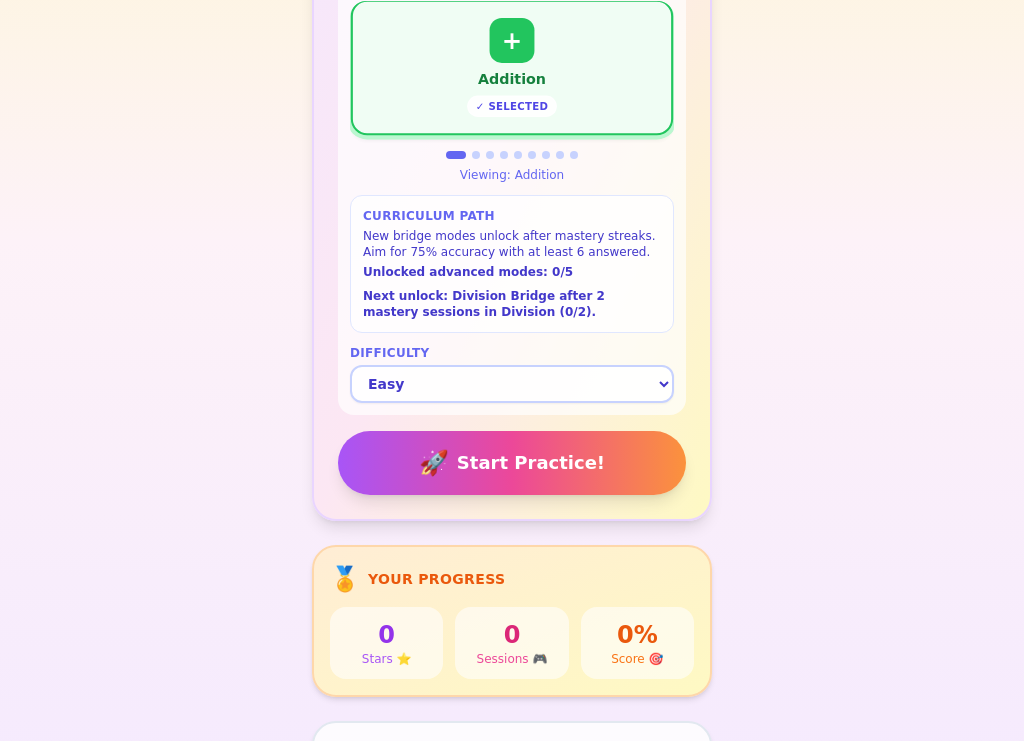
Test: applies selected difficulty when starting practice
(page scrolled)
Select "Hard" in the dropdown named "select difficulty": [512, 384] box [350,365,674,403]
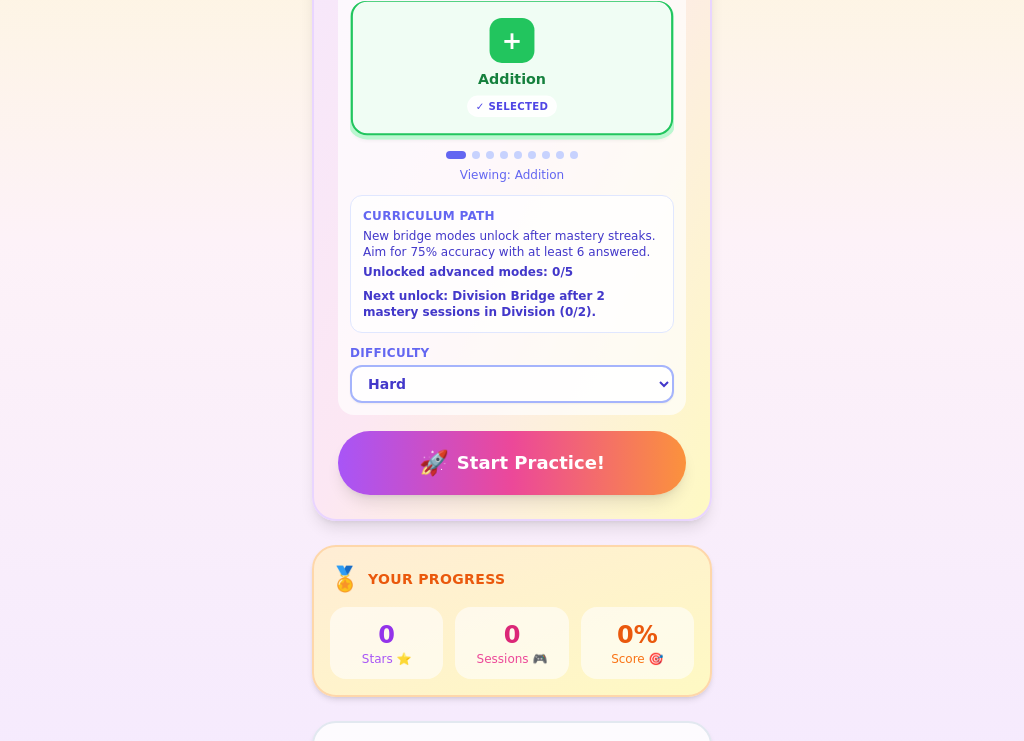
Click the button "🚀 Start Practice!": [512, 463] box [338,431,686,495]
(page scrolled)
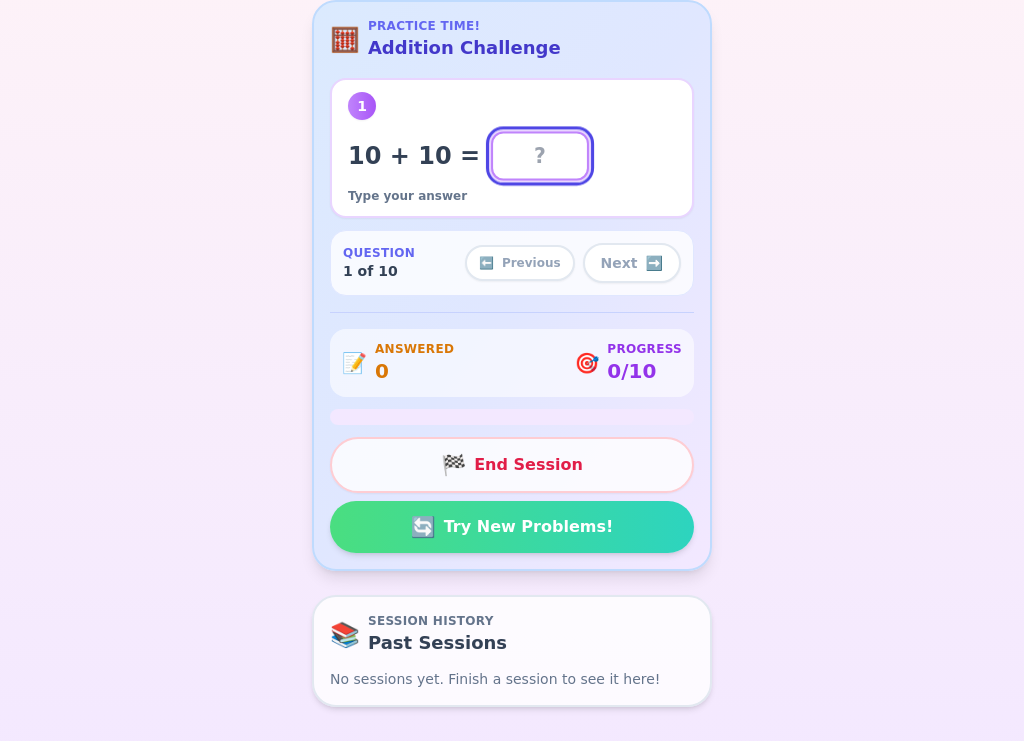
Result: the text "10 + 10 =" is shown at [348,140,480,172]
